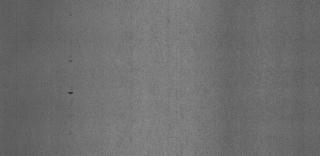oil spot: (66, 87, 78, 99), (67, 126, 75, 136), (67, 54, 75, 62), (68, 8, 74, 16)
